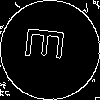E: (25, 25, 74, 63)
